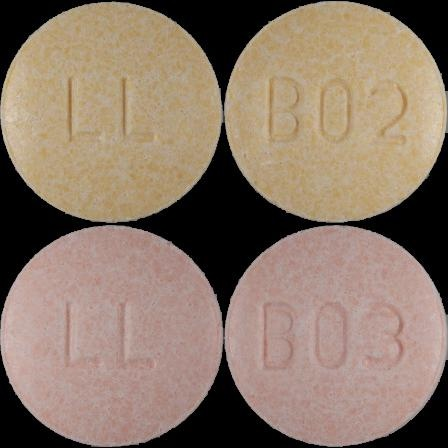68180-519: (0, 0, 224, 224)
